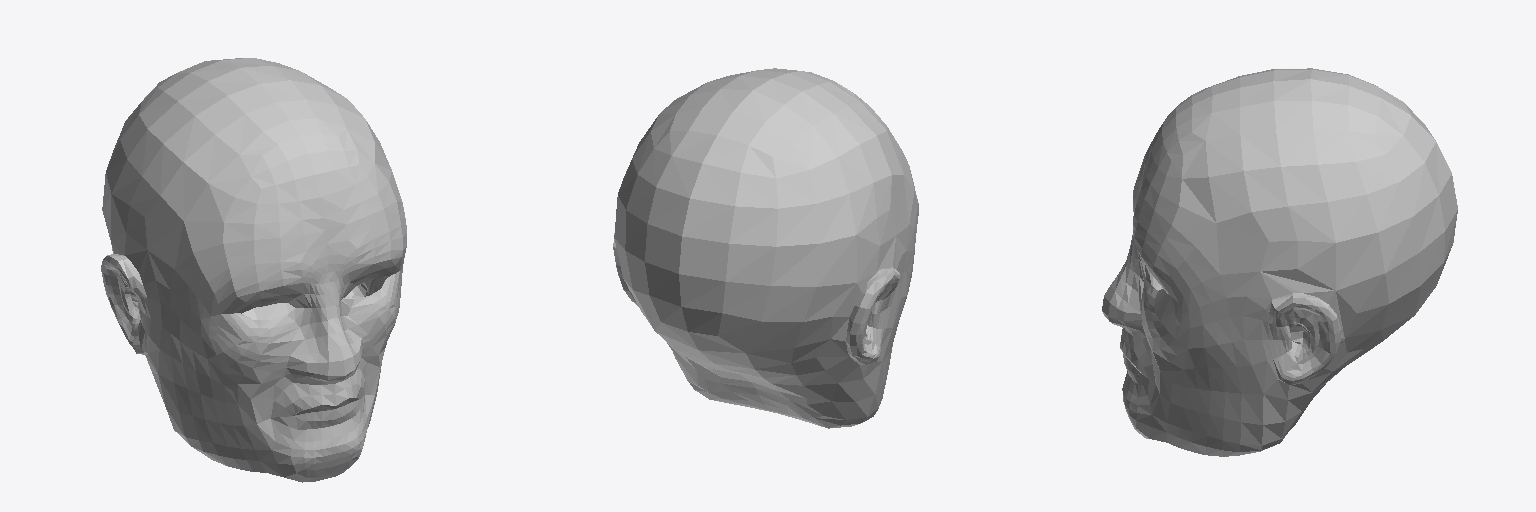
The model's file is face retopo obj.obj.
The picture shows the model from 3 angles: view 1: azimuth 30°, elevation 25°; view 2: azimuth 150°, elevation 25°; view 3: azimuth 270°, elevation 25°; orthographic projection.
Parts seen in each view (by area): view 1: polySurface1; view 2: polySurface1; view 3: polySurface1.
Part boxes in pixels (x1,y1,x2,y2): polySurface1: (101,58,406,482); polySurface1: (613,68,918,428); polySurface1: (1102,68,1457,456).
Size of the model in its own units: 9.02 by 11.42 by 10.42.